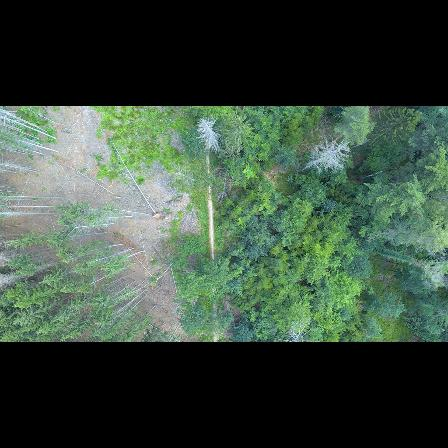Dead: (301, 138, 354, 175), (195, 116, 223, 158)
